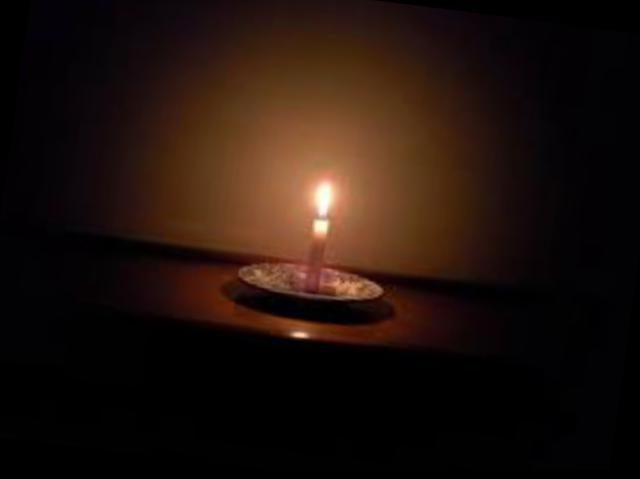fire: (299, 168, 345, 228)
